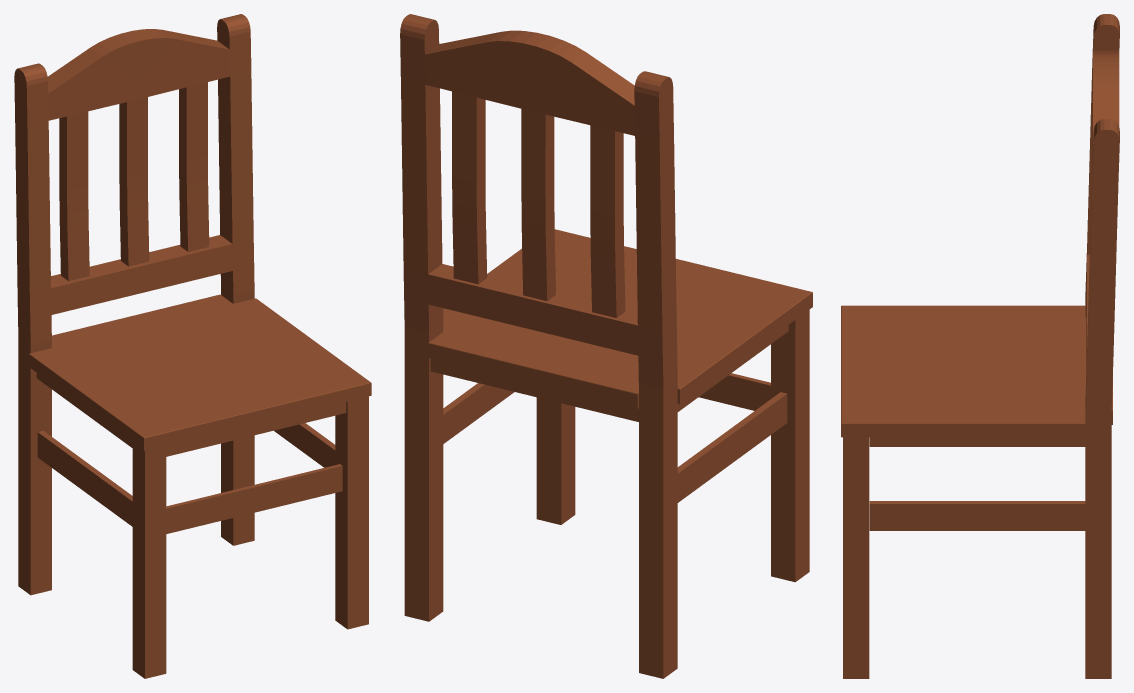
Rendered from simpleChair.fbx.
3 views of the same model, side by side, from view 1: azimuth 30°, elevation 25°; view 2: azimuth 150°, elevation 25°; view 3: azimuth 270°, elevation 25° (orthographic). The views are drawn at different scales.
Parts seen in each view (by area): view 1: chair; view 2: chair; view 3: chair.
Part boxes in pixels (x1,y1,x2,y2): chair: (14,14,371,678); chair: (400,14,812,678); chair: (841,14,1119,678).
Bounding box in the file's own units: 50 × 110 × 50.
